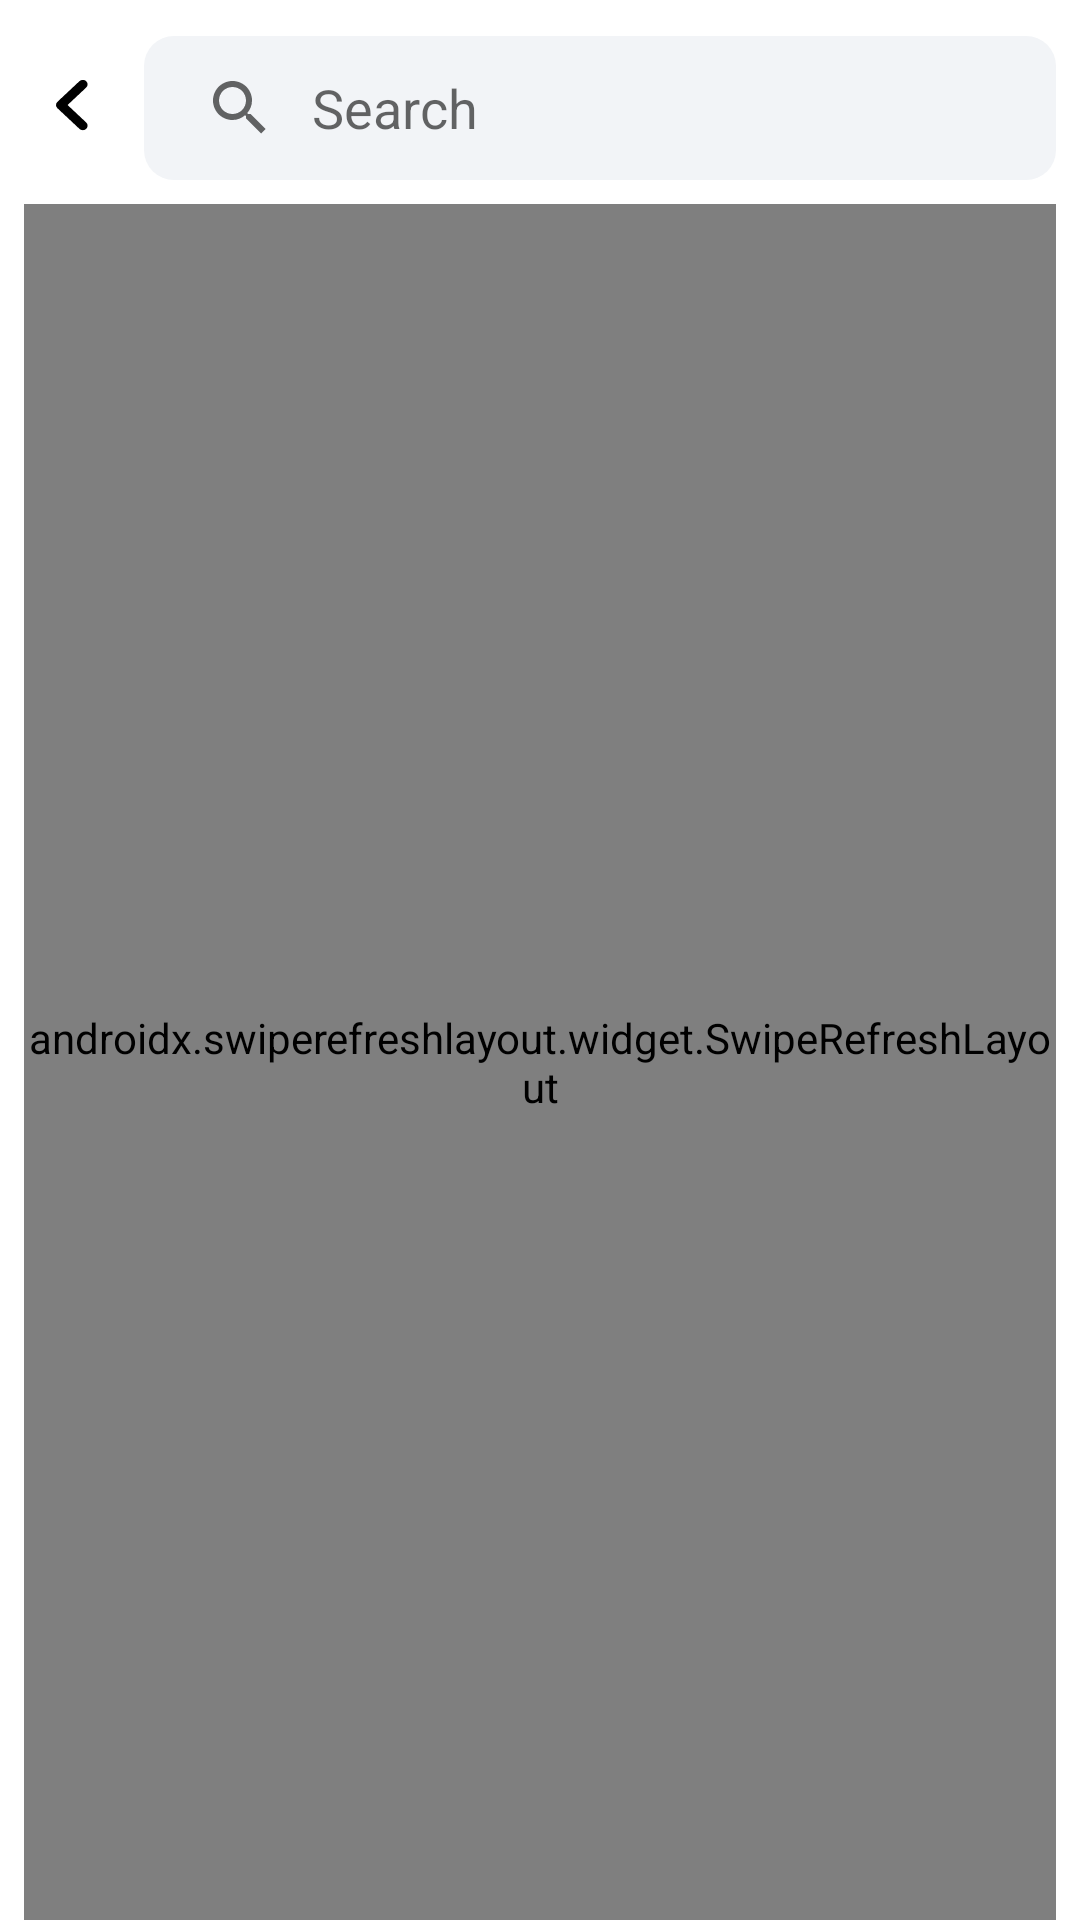

Screen size 1080px x 1920px. Icon name, then its center in pixels as (x,y):
Back Button: (72,105)
